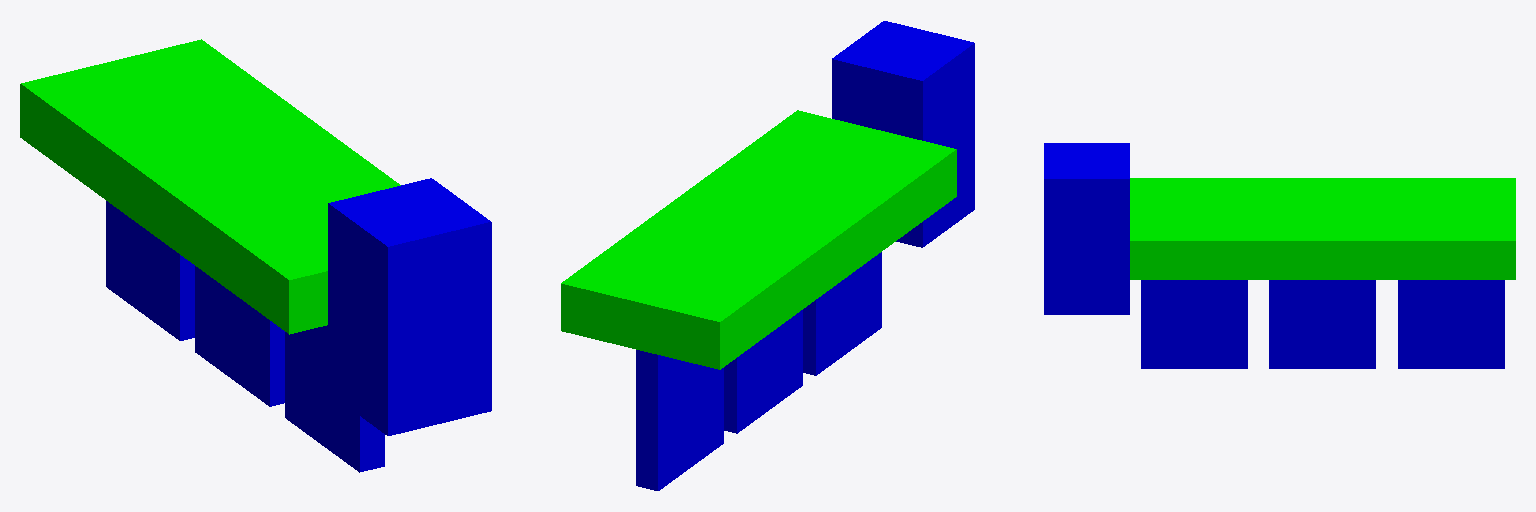
URDF robot description (robot):
<robot name = "robot">
    <link name="root">
        <inertial>
            <origin xyz="0.0 0.0 1.5" rpy="0 0 0"/>
            <mass value="1" />
            <inertia ixx="100" ixy="0" ixz="0" iyy="100" iyz="0" izz="100" />
        </inertial>
        <visual>
            <origin xyz="0.0 0.0 1.5" rpy="0 0 0"/>
            <geometry>
                <box size="0 0 0.0001" />
            </geometry>
            <material name="Green">
                <color rgba="0 1.0 0.0 1.0"/>
            </material>
        </visual>
        <collision>
            <origin xyz="0.0 0.0 1.5" rpy="0 0 0"/>
            <geometry>
                <box size="0 0 0.0001" />
            </geometry>
        </collision>
    </link>
    <joint name="root_000" type="revolute">
       <parent link="root"/>
       <child  link="000"/>
       <origin rpy="0 0 0" xyz="0.0 0.0 1.5" />
     <axis xyz="1 0 0"/>
       <limit effort="0.0" lower="-3.14159" upper="3.14159" velocity="0.0"/>
    </joint>
    <link name="000">
        <inertial>
            <origin xyz="0.2 0.0 0.0" rpy="0 0 0"/>
            <mass value="1" />
            <inertia ixx="100" ixy="0" ixz="0" iyy="100" iyz="0" izz="100" />
        </inertial>
        <visual>
            <origin xyz="0.2 0.0 0.0" rpy="0 0 0"/>
            <geometry>
                <box size="0.4 0.4 0.7" />
            </geometry>
            <material name="Blue">
                <color rgba="0 0.0 1.0 1.0"/>
            </material>
        </visual>
        <collision>
            <origin xyz="0.2 0.0 0.0" rpy="0 0 0"/>
            <geometry>
                <box size="0.4 0.4 0.7" />
            </geometry>
        </collision>
    </link>
    <joint name="000_000-100" type="revolute">
       <parent link="000"/>
       <child  link="000-100"/>
       <origin rpy="0 0 0" xyz="0.2 0.2 -0.0" />
     <axis xyz="0 1 0"/>
       <limit effort="0.0" lower="-3.14159" upper="3.14159" velocity="0.0"/>
    </joint>
    <link name="000-100">
        <inertial>
            <origin xyz="0.0 0.3 -0.0" rpy="0 0 0"/>
            <mass value="1" />
            <inertia ixx="100" ixy="0" ixz="0" iyy="100" iyz="0" izz="100" />
        </inertial>
        <visual>
            <origin xyz="0.0 0.3 -0.0" rpy="0 0 0"/>
            <geometry>
                <box size="0.7 0.6 0.2" />
            </geometry>
            <material name="Green">
                <color rgba="0 1.0 0.0 1.0"/>
            </material>
        </visual>
        <collision>
            <origin xyz="0.0 0.3 -0.0" rpy="0 0 0"/>
            <geometry>
                <box size="0.7 0.6 0.2" />
            </geometry>
        </collision>
    </link>
    <joint name="000-100_000-110" type="revolute">
       <parent link="000-100"/>
       <child  link="000-110"/>
       <origin rpy="0 0 0" xyz="0.0 0.6 -0.0" />
     <axis xyz="0 1 0"/>
       <limit effort="0.0" lower="-3.14159" upper="3.14159" velocity="0.0"/>
    </joint>
    <link name="000-110">
        <inertial>
            <origin xyz="0.0 0.3 -0.0" rpy="0 0 0"/>
            <mass value="1" />
            <inertia ixx="100" ixy="0" ixz="0" iyy="100" iyz="0" izz="100" />
        </inertial>
        <visual>
            <origin xyz="0.0 0.3 -0.0" rpy="0 0 0"/>
            <geometry>
                <box size="0.7 0.6 0.2" />
            </geometry>
            <material name="Green">
                <color rgba="0 1.0 0.0 1.0"/>
            </material>
        </visual>
        <collision>
            <origin xyz="0.0 0.3 -0.0" rpy="0 0 0"/>
            <geometry>
                <box size="0.7 0.6 0.2" />
            </geometry>
        </collision>
    </link>
    <joint name="000-110_000-120" type="revolute">
       <parent link="000-110"/>
       <child  link="000-120"/>
       <origin rpy="0 0 0" xyz="0.0 0.6 -0.0" />
     <axis xyz="0 1 0"/>
       <limit effort="0.0" lower="-3.14159" upper="3.14159" velocity="0.0"/>
    </joint>
    <link name="000-120">
        <inertial>
            <origin xyz="0.0 0.3 -0.0" rpy="0 0 0"/>
            <mass value="1" />
            <inertia ixx="100" ixy="0" ixz="0" iyy="100" iyz="0" izz="100" />
        </inertial>
        <visual>
            <origin xyz="0.0 0.3 -0.0" rpy="0 0 0"/>
            <geometry>
                <box size="0.7 0.6 0.2" />
            </geometry>
            <material name="Green">
                <color rgba="0 1.0 0.0 1.0"/>
            </material>
        </visual>
        <collision>
            <origin xyz="0.0 0.3 -0.0" rpy="0 0 0"/>
            <geometry>
                <box size="0.7 0.6 0.2" />
            </geometry>
        </collision>
    </link>
    <joint name="000-120_000-120-200" type="revolute">
       <parent link="000-120"/>
       <child  link="000-120-200"/>
       <origin rpy="0 0 0" xyz="0.0 0.3 -0.1" />
     <axis xyz="0 0 1"/>
       <limit effort="0.0" lower="-3.14159" upper="3.14159" velocity="0.0"/>
    </joint>
    <link name="000-120-200">
        <inertial>
            <origin xyz="0.0 0.0 -0.3" rpy="0 0 0"/>
            <mass value="1" />
            <inertia ixx="100" ixy="0" ixz="0" iyy="100" iyz="0" izz="100" />
        </inertial>
        <visual>
            <origin xyz="0.0 0.0 -0.3" rpy="0 0 0"/>
            <geometry>
                <box size="0.1 0.5 0.6" />
            </geometry>
            <material name="Blue">
                <color rgba="0 0.0 1.0 1.0"/>
            </material>
        </visual>
        <collision>
            <origin xyz="0.0 0.0 -0.3" rpy="0 0 0"/>
            <geometry>
                <box size="0.1 0.5 0.6" />
            </geometry>
        </collision>
    </link>
    <joint name="000-110_000-110-200" type="revolute">
       <parent link="000-110"/>
       <child  link="000-110-200"/>
       <origin rpy="0 0 0" xyz="0.0 0.3 -0.1" />
     <axis xyz="0 0 1"/>
       <limit effort="0.0" lower="-3.14159" upper="3.14159" velocity="0.0"/>
    </joint>
    <link name="000-110-200">
        <inertial>
            <origin xyz="0.0 0.0 -0.3" rpy="0 0 0"/>
            <mass value="1" />
            <inertia ixx="100" ixy="0" ixz="0" iyy="100" iyz="0" izz="100" />
        </inertial>
        <visual>
            <origin xyz="0.0 0.0 -0.3" rpy="0 0 0"/>
            <geometry>
                <box size="0.1 0.5 0.6" />
            </geometry>
            <material name="Blue">
                <color rgba="0 0.0 1.0 1.0"/>
            </material>
        </visual>
        <collision>
            <origin xyz="0.0 0.0 -0.3" rpy="0 0 0"/>
            <geometry>
                <box size="0.1 0.5 0.6" />
            </geometry>
        </collision>
    </link>
    <joint name="000-100_000-100-200" type="revolute">
       <parent link="000-100"/>
       <child  link="000-100-200"/>
       <origin rpy="0 0 0" xyz="0.0 0.3 -0.1" />
     <axis xyz="0 0 1"/>
       <limit effort="0.0" lower="-3.14159" upper="3.14159" velocity="0.0"/>
    </joint>
    <link name="000-100-200">
        <inertial>
            <origin xyz="0.0 0.0 -0.3" rpy="0 0 0"/>
            <mass value="1" />
            <inertia ixx="100" ixy="0" ixz="0" iyy="100" iyz="0" izz="100" />
        </inertial>
        <visual>
            <origin xyz="0.0 0.0 -0.3" rpy="0 0 0"/>
            <geometry>
                <box size="0.1 0.5 0.6" />
            </geometry>
            <material name="Blue">
                <color rgba="0 0.0 1.0 1.0"/>
            </material>
        </visual>
        <collision>
            <origin xyz="0.0 0.0 -0.3" rpy="0 0 0"/>
            <geometry>
                <box size="0.1 0.5 0.6" />
            </geometry>
        </collision>
    </link>
</robot>

--- Facts derived from the render (not from the file) ---
Views: 3 orthographic renders of the robot side by side, from view 1: azimuth 30°, elevation 25°; view 2: azimuth 150°, elevation 25°; view 3: azimuth 270°, elevation 25°.
Model robot with 8 links and 7 joints (7 revolute), rooted at root, posed every joint at zero.
Links seen in each view (by area): view 1: 000, [phone redacted] (×3), 000-110, 000-120, 000-100; view 2: 000-120, [phone redacted] (×3), 000, 000-100, 000-110; view 3: [phone redacted] (×3), 000, 000-100, 000-120, 000-110.
Boxes of the visible links, x1=… form: 000: x1=328, y1=178, x2=491, y2=435; [phone redacted] (×3): x1=106, y1=201, x2=384, y2=472; 000-110: x1=110, y1=105, x2=380, y2=268; 000-120: x1=20, y1=39, x2=290, y2=202; 000-100: x1=200, y1=171, x2=400, y2=334; 000-120: x1=561, y1=226, x2=798, y2=369; [phone redacted] (×3): x1=636, y1=252, x2=881, y2=490; 000: x1=832, y1=21, x2=974, y2=247; 000-100: x1=719, y1=110, x2=956, y2=253; 000-110: x1=640, y1=168, x2=877, y2=311; [phone redacted] (×3): x1=1141, y1=280, x2=1504, y2=368; 000: x1=1044, y1=143, x2=1129, y2=314; 000-100: x1=1130, y1=178, x2=1258, y2=279; 000-120: x1=1387, y1=178, x2=1515, y2=279; 000-110: x1=1259, y1=178, x2=1386, y2=279.
Bounding box of the posed robot: 0.7 × 2.2 × 1.05 m (x, y, z).
Geometry: primitives only (box / cylinder / sphere), no mesh files.
